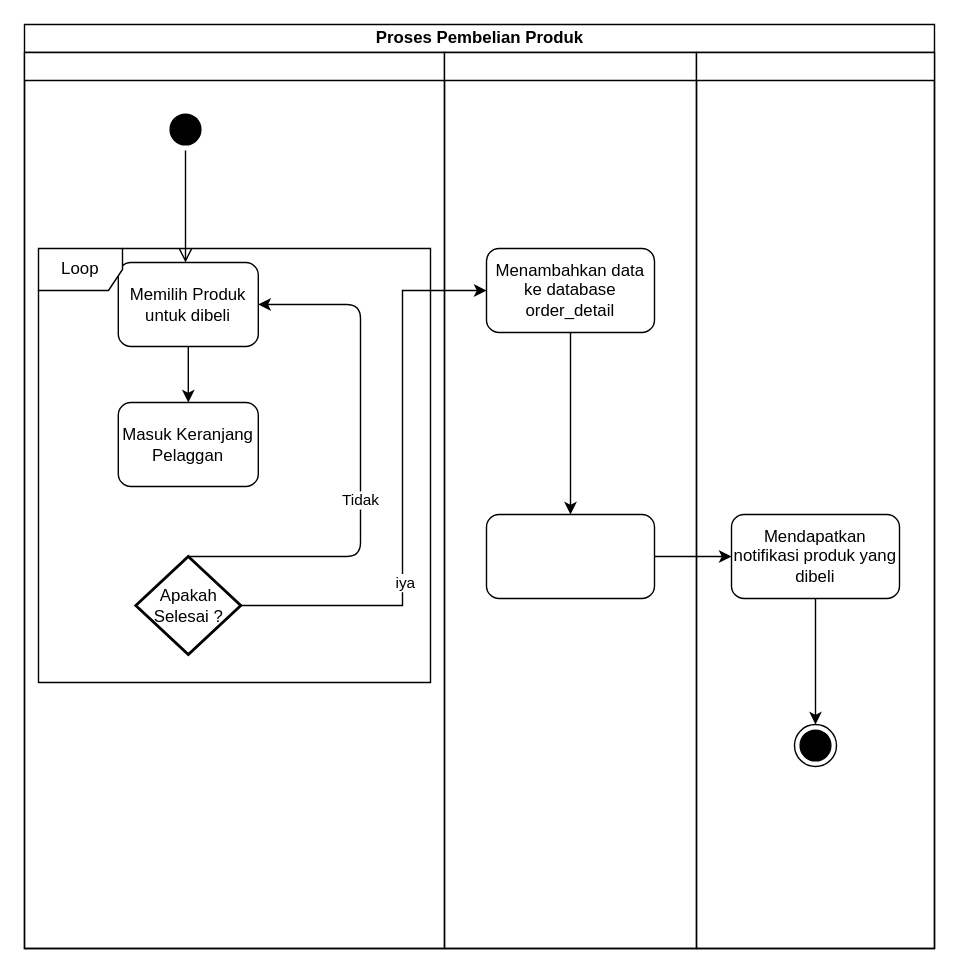
The diagram is 959 pixels wide and 973 high, and some of its shapes have lost their labels. Here are the shapes that lost their labels. From the top down, the box of each, then its label:
(23, 51, 444, 948): Pelanggan
(443, 51, 696, 948): Sistem
(695, 51, 934, 948): Pedagang Keliling
(485, 513, 654, 598): Mengirim notifkasi barang pemesanan
